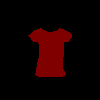t-shirt: (28, 28, 72, 77)
